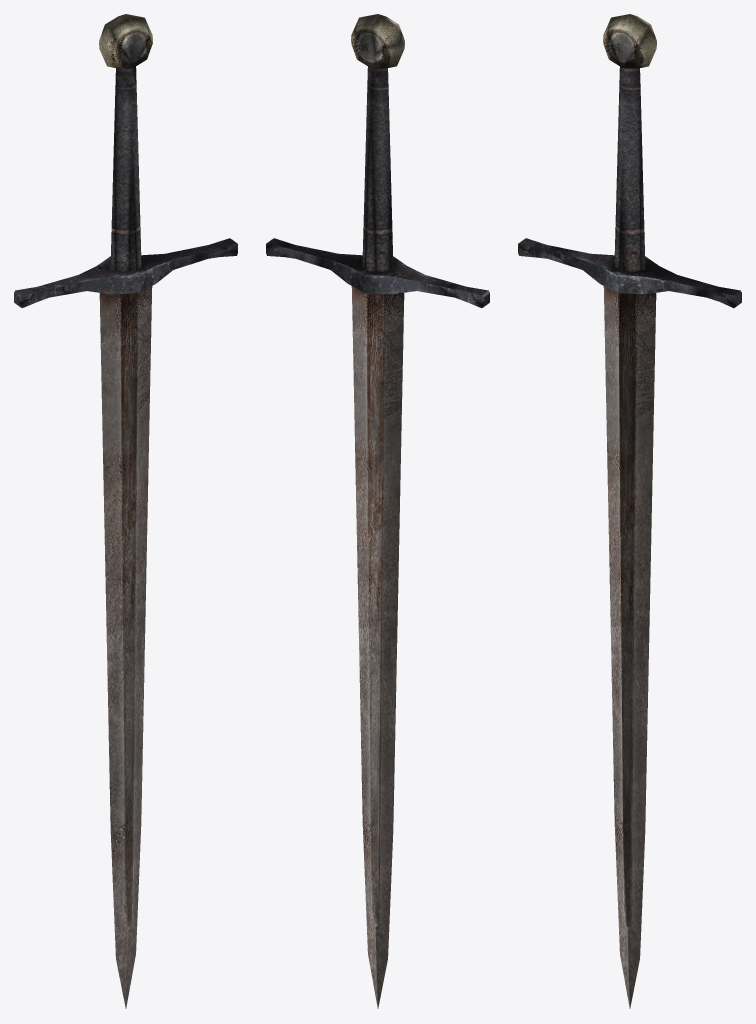
3 renders of one model, left to right at view 1: azimuth 30°, elevation 25°; view 2: azimuth 150°, elevation 25°; view 3: azimuth 330°, elevation 25°, orthographic.
Parts seen in each view (by area): view 1: mesh0, mesh1; view 2: mesh0, mesh1; view 3: mesh0, mesh1.
Part boxes in pixels (left/top/right/bottom): mesh0: left=14, top=14, right=237, bottom=1008; mesh1: left=110, top=66, right=141, bottom=271; mesh0: left=266, top=14, right=489, bottom=1008; mesh1: left=362, top=66, right=393, bottom=271; mesh0: left=518, top=14, right=741, bottom=1008; mesh1: left=614, top=66, right=645, bottom=271.
Size of the model in its own units: 25.77 by 112 by 5.52.
